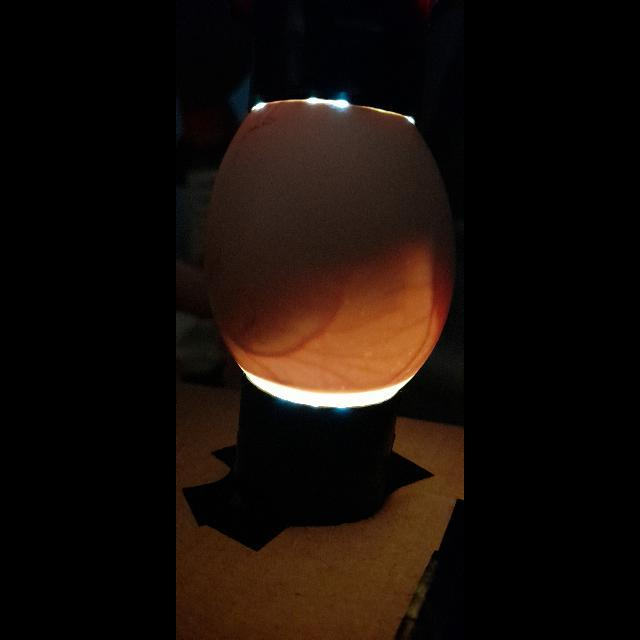Fertile: (212, 100, 443, 406)
